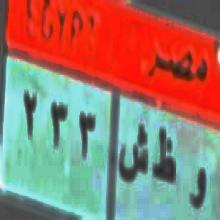2: (22, 84, 38, 146)
3: (76, 102, 98, 173), (49, 98, 69, 150)
Thaa: (151, 124, 177, 186)
sheen: (118, 119, 147, 192)
waw: (186, 151, 206, 220)
